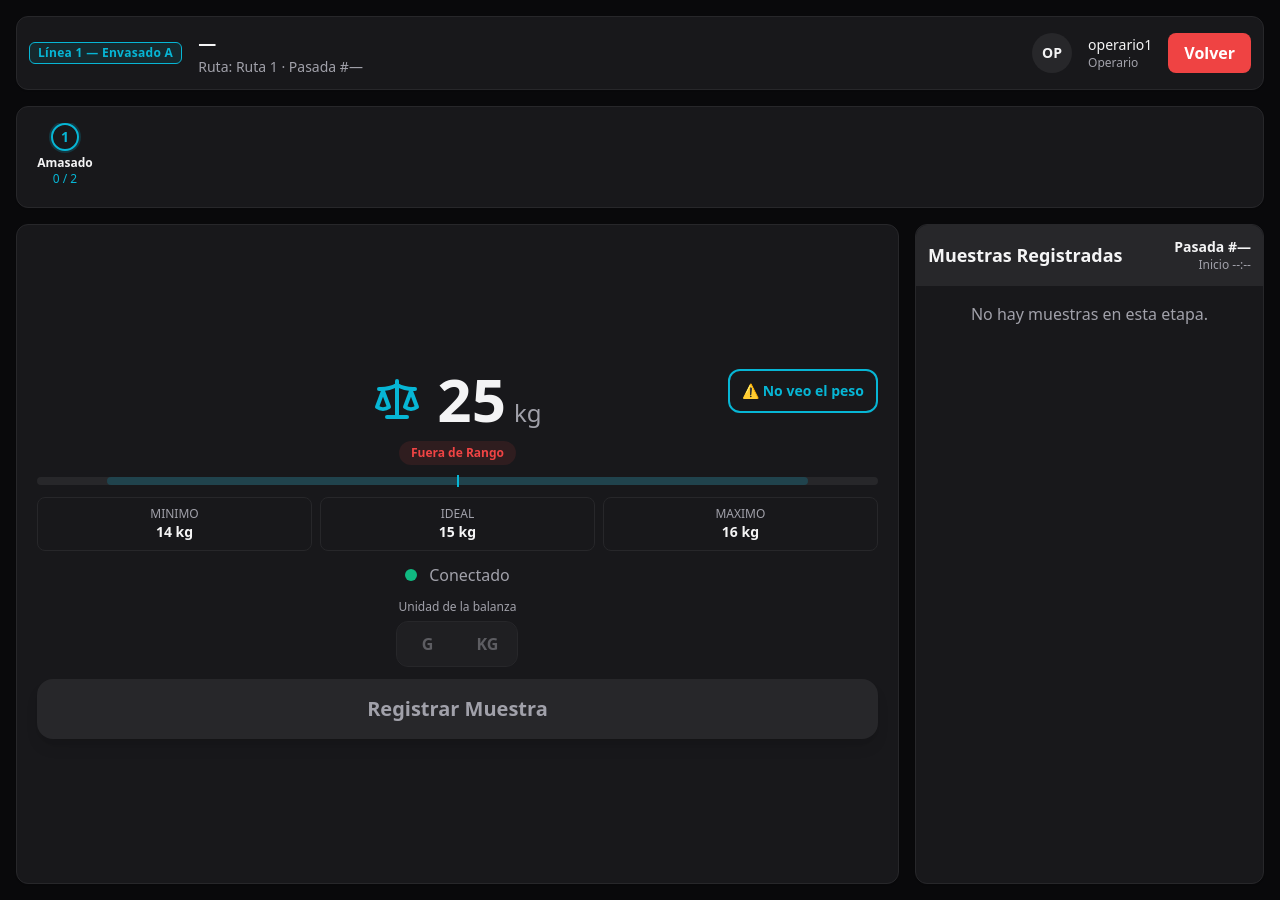
Test: TabletWorkspace › bloquea el registro y muestra alerta cuando el peso está fuera del rango + margen del 20%
Expected: the text "Amasado" is shown, [37, 155, 93, 171]
Click the button "Registrar Muestra" at (457, 709), box [37, 679, 878, 739]
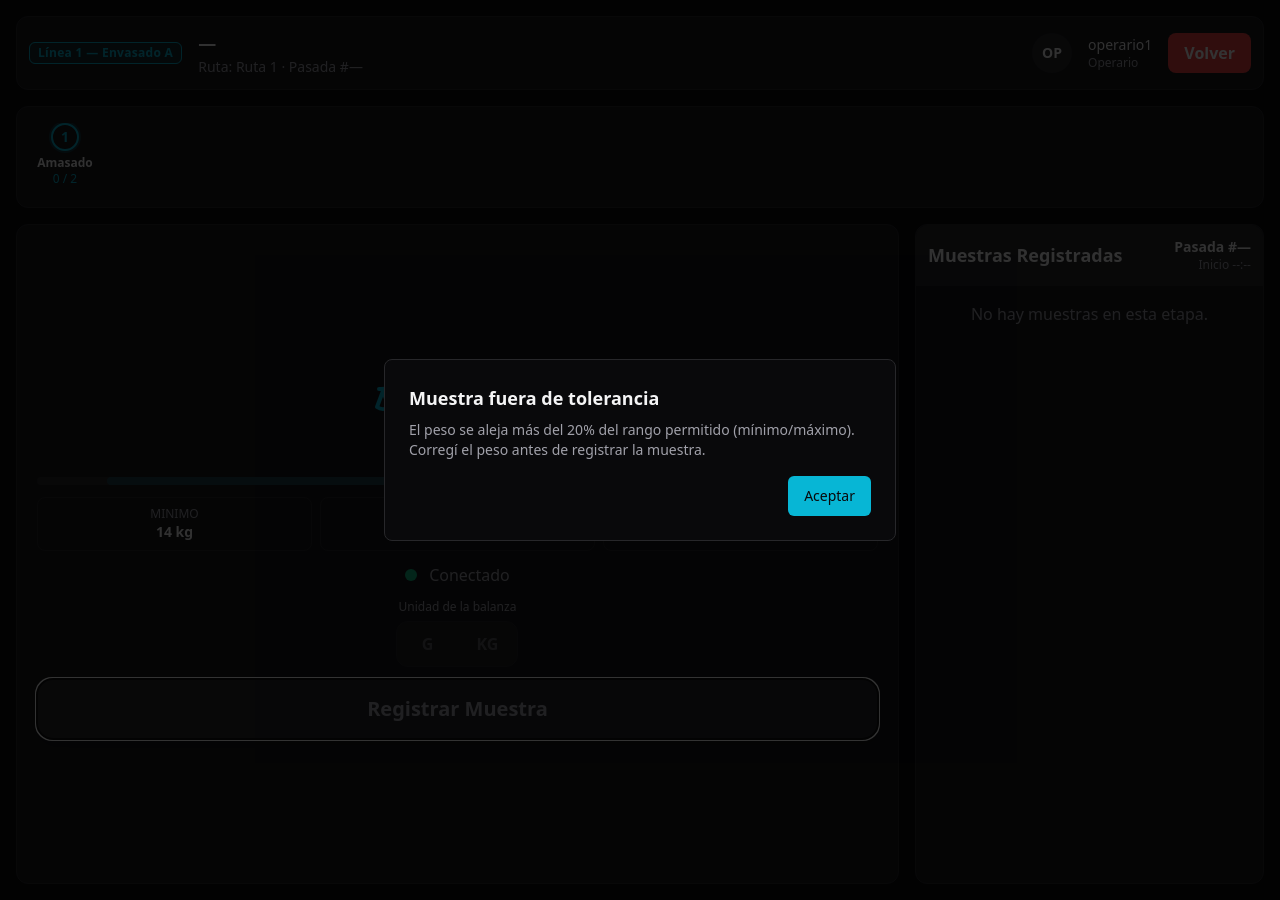
Result: the button "Aceptar" is shown at [788, 476, 871, 516]
